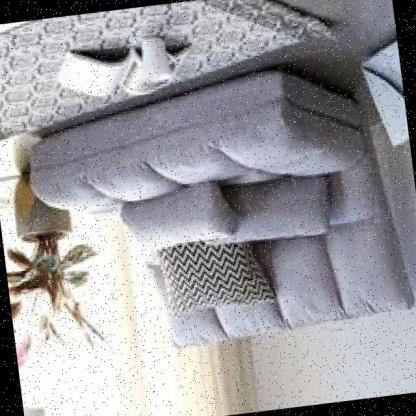Sofa: (8, 34, 416, 384)
